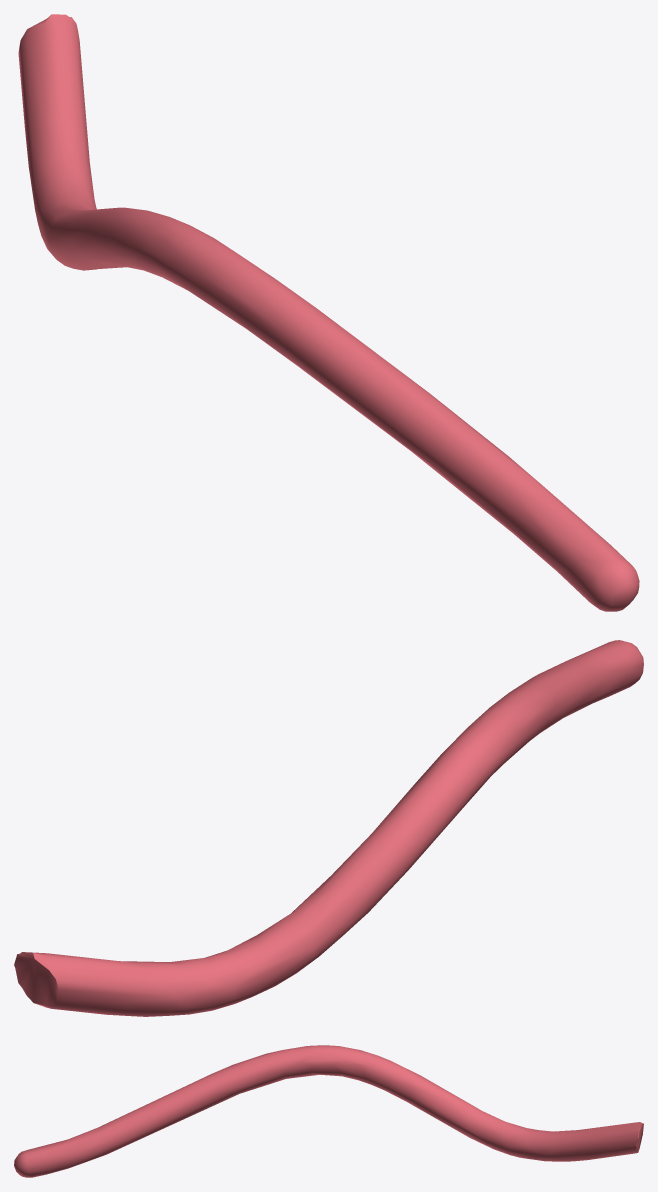
The model's file is fma69756_fj2164.glb.
3 renders of one model, top to bottom at view 1: azimuth 30°, elevation 25°; view 2: azimuth 150°, elevation 25°; view 3: azimuth 270°, elevation 25°, orthographic. The views are drawn at different scales.
Parts seen in each view (by area): view 1: FMA69756_FJ2164; view 2: FMA69756_FJ2164; view 3: FMA69756_FJ2164.
Boxes of the visible parts, bbox=[...] form: FMA69756_FJ2164: bbox=[18, 14, 639, 611]; FMA69756_FJ2164: bbox=[14, 640, 643, 1016]; FMA69756_FJ2164: bbox=[14, 1045, 643, 1177].
Size of the model in its own units: 0.0086 by 0.00686 by 0.0399.
